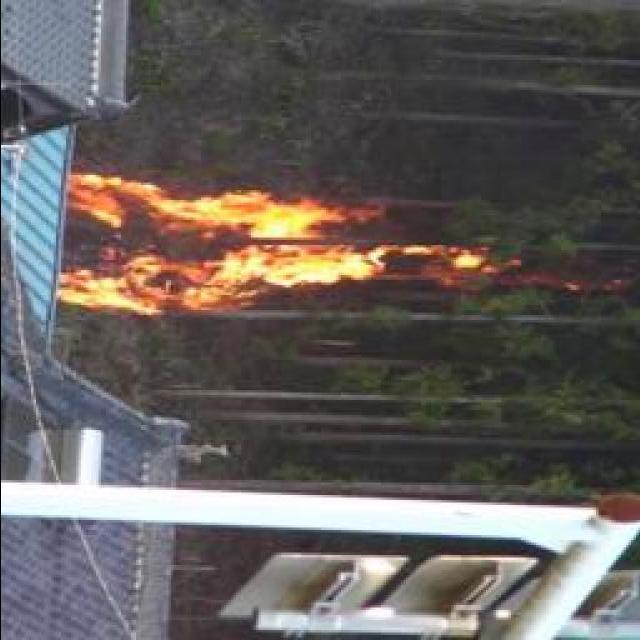Fire: (49, 169, 379, 321)
